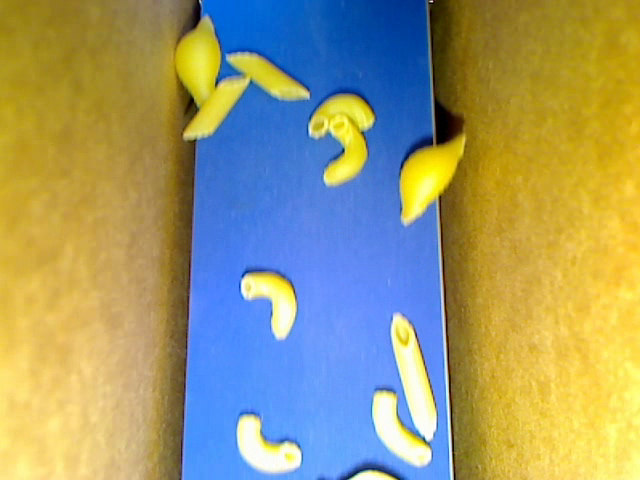elbow: (372, 388, 432, 469), (240, 269, 297, 340), (236, 414, 301, 473), (322, 114, 367, 187), (307, 92, 376, 139)
penne: (390, 310, 437, 442), (225, 51, 310, 102), (183, 75, 250, 139)
shell: (398, 132, 467, 226), (174, 15, 222, 107)
